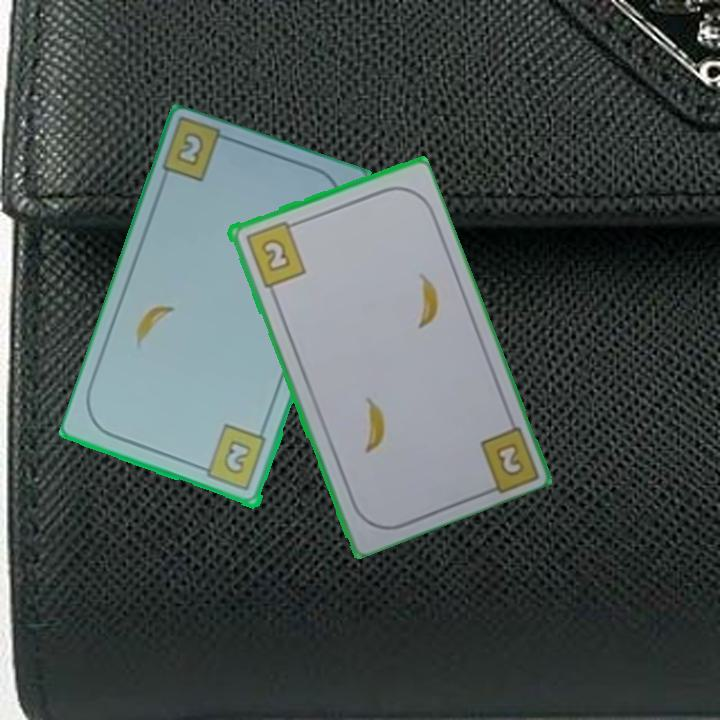2b: (195, 422, 270, 494), (241, 217, 308, 290), (173, 129, 207, 170), (495, 442, 524, 476)
